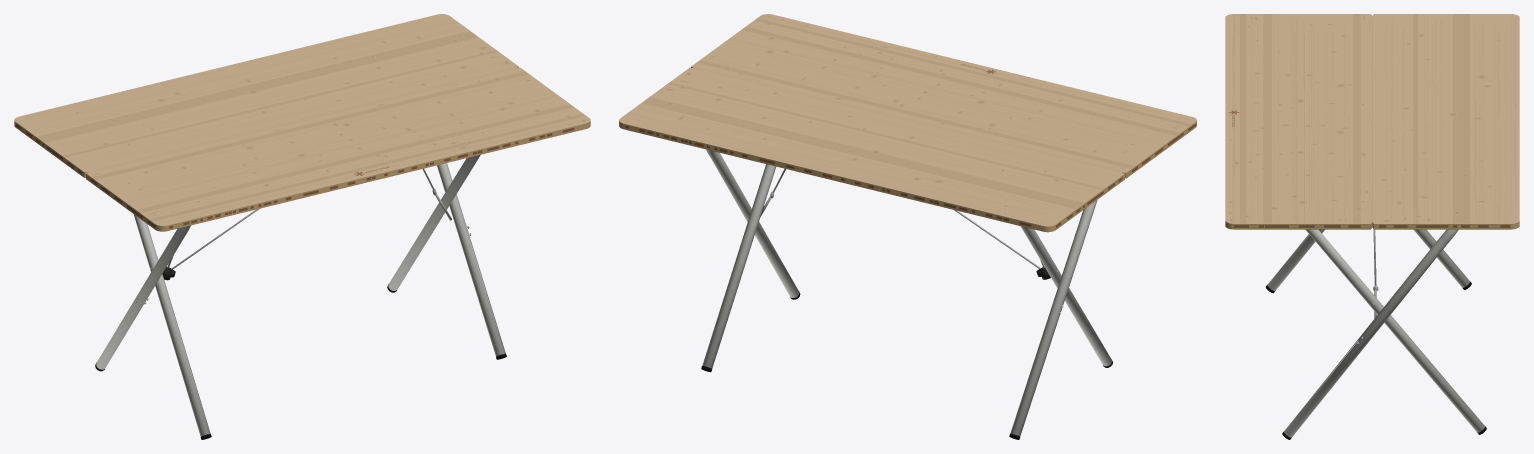
The model's file is snowpeak-single-action-table-long.glb.
The picture shows the model from 3 angles, left to right: view 1: azimuth 30°, elevation 25°; view 2: azimuth 150°, elevation 25°; view 3: azimuth 270°, elevation 25°; orthographic projection.
Visible parts, largest first — view 1: snowpeak-single-action-table-long-top, snowpeak-single-action-table-long-grain_fine, snowpeak-single-action-table-long-grain, snowpeak-single-action-table-long-frame, snowpeak-single-action-table-long-edge, snowpeak-single-action-table-long-node_soft, snowpeak-single-action-table-long-edge_seg, snowpeak-single-action-table-long-node; view 2: snowpeak-single-action-table-long-top, snowpeak-single-action-table-long-grain_fine, snowpeak-single-action-table-long-grain, snowpeak-single-action-table-long-frame, snowpeak-single-action-table-long-edge, snowpeak-single-action-table-long-node_soft, snowpeak-single-action-table-long-edge_seg, snowpeak-single-action-table-long-node; view 3: snowpeak-single-action-table-long-top, snowpeak-single-action-table-long-grain_fine, snowpeak-single-action-table-long-grain, snowpeak-single-action-table-long-frame, snowpeak-single-action-table-long-edge, snowpeak-single-action-table-long-node_soft, snowpeak-single-action-table-long-node, snowpeak-single-action-table-long-edge_seg.
Boxes of the visible parts, x1,y1,x2,y2 form: snowpeak-single-action-table-long-top: (14,14,590,226); snowpeak-single-action-table-long-grain_fine: (23,15,588,223); snowpeak-single-action-table-long-grain: (36,31,585,221); snowpeak-single-action-table-long-frame: (96,155,505,436); snowpeak-single-action-table-long-edge: (14,67,590,231); snowpeak-single-action-table-long-node_soft: (75,33,586,215); snowpeak-single-action-table-long-edge_seg: (15,124,574,228); snowpeak-single-action-table-long-node: (76,34,585,215); snowpeak-single-action-table-long-top: (619,14,1196,226); snowpeak-single-action-table-long-grain_fine: (622,15,1192,223); snowpeak-single-action-table-long-grain: (642,18,1191,209); snowpeak-single-action-table-long-frame: (702,149,1111,436); snowpeak-single-action-table-long-edge: (619,67,1196,231); snowpeak-single-action-table-long-node_soft: (653,15,1179,207); snowpeak-single-action-table-long-edge_seg: (625,123,1195,227); snowpeak-single-action-table-long-node: (655,15,1179,206); snowpeak-single-action-table-long-top: (1225,14,1519,223); snowpeak-single-action-table-long-grain_fine: (1232,14,1515,223); snowpeak-single-action-table-long-grain: (1240,14,1469,223); snowpeak-single-action-table-long-frame: (1267,229,1484,437); snowpeak-single-action-table-long-edge: (1225,221,1519,229); snowpeak-single-action-table-long-node_soft: (1229,15,1500,221); snowpeak-single-action-table-long-node: (1230,16,1499,221); snowpeak-single-action-table-long-edge_seg: (1234,225,1510,227).
Bounding box in the file's own units: 1.21 × 0.6601 × 0.7195.
